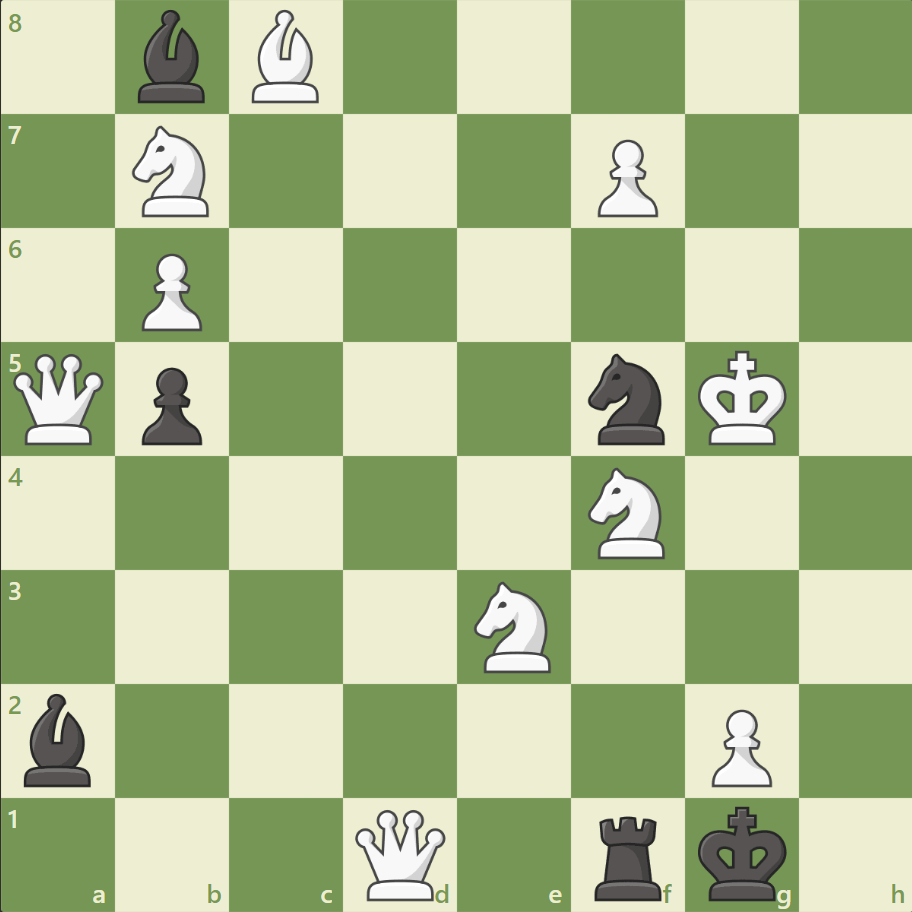B: (244, 6, 328, 109)
K: (692, 344, 792, 452)
N: (124, 121, 222, 223), (579, 461, 676, 564), (465, 575, 562, 677)
P: (133, 246, 208, 337), (701, 700, 776, 791), (588, 132, 662, 223)
Q: (10, 349, 109, 449), (351, 804, 450, 903)
b: (131, 6, 215, 109), (17, 687, 101, 790)
k: (692, 798, 792, 906)
n: (579, 348, 676, 450)
p: (133, 359, 208, 450)
r: (587, 806, 670, 904)
